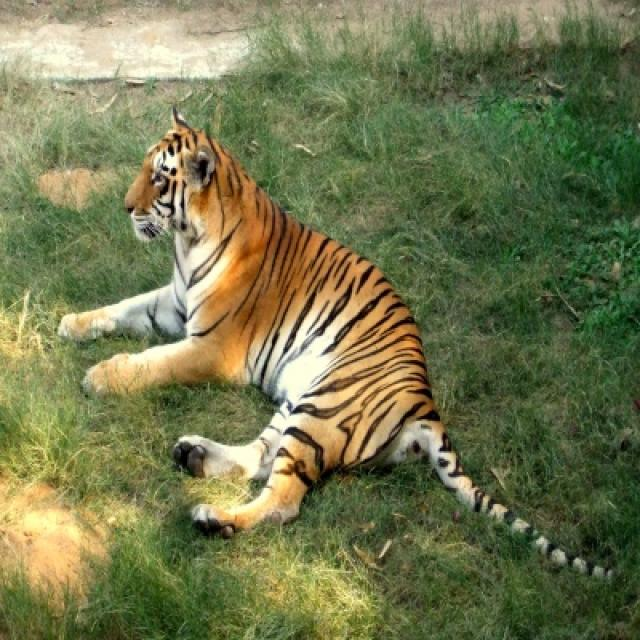Tiger: (59, 110, 626, 593)
